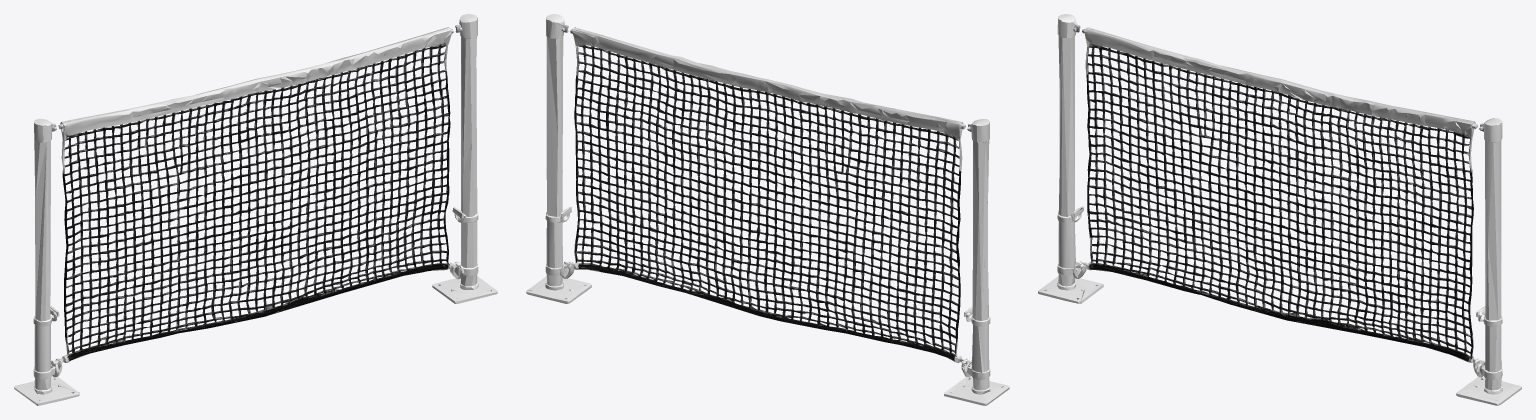
File: tennis-net-wide.glb
3 renders of one model, left to right at view 1: azimuth 30°, elevation 25°; view 2: azimuth 150°, elevation 25°; view 3: azimuth 330°, elevation 25°, orthographic.
Size of the model in its own units: 1.9 by 1.07 by 0.1758.
1 material, 1 textured.
